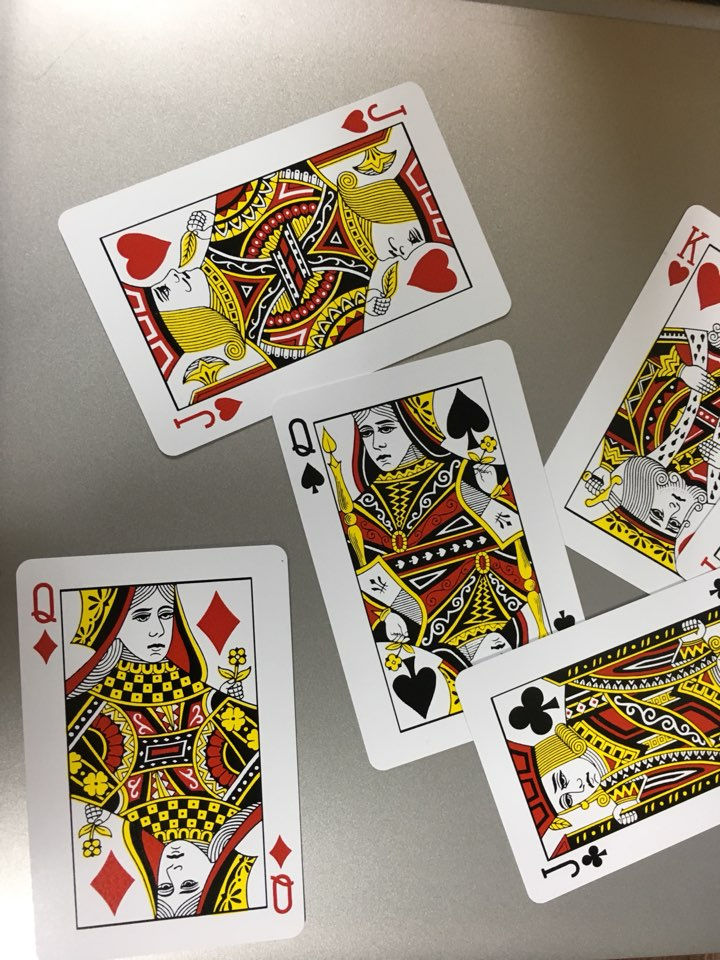jack: (54, 69, 523, 466), (450, 549, 720, 913)
king: (520, 188, 720, 639)
queen: (257, 324, 607, 785), (1, 533, 332, 960)
